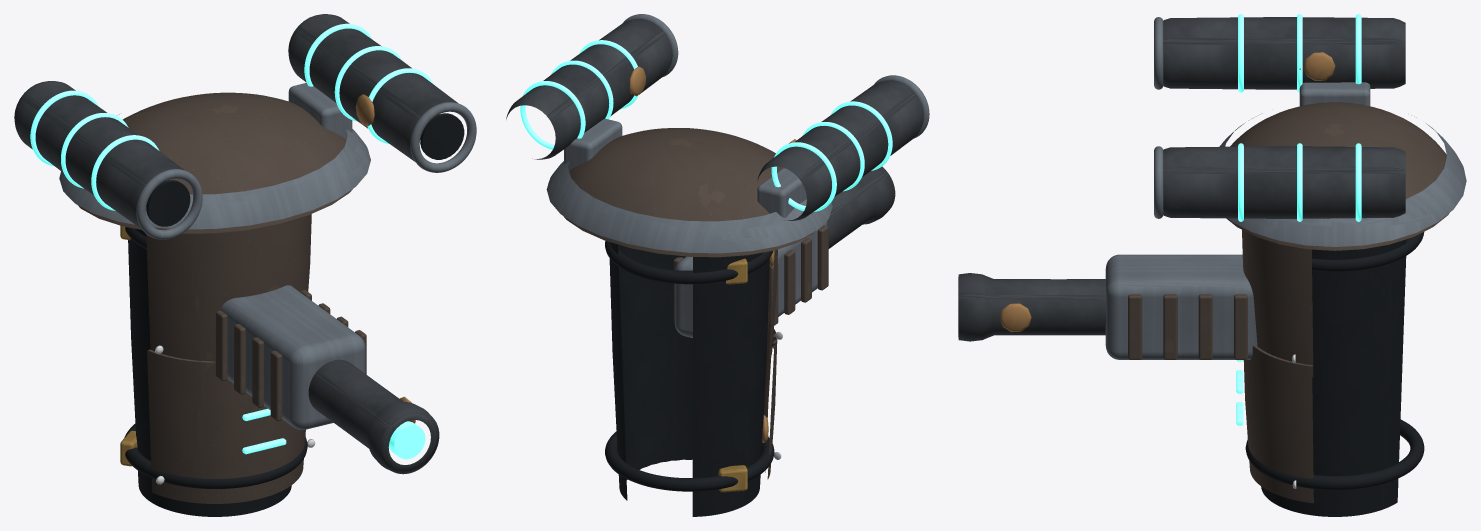
File: shoulder-mount.glb
The picture shows the model from 3 angles, left to right: view 1: azimuth 30°, elevation 25°; view 2: azimuth 150°, elevation 25°; view 3: azimuth 270°, elevation 25°; orthographic projection. The views are drawn at different scales.
Visible parts, largest first — view 1: ceramic / ceramic composite panel, darksteel / oil-blackened fittings, alloy / machined anodized alloy, polymer / stippled polymer, energy / emissive field channel, peened pin; view 2: polymer / stippled polymer, darksteel / oil-blackened fittings, ceramic / ceramic composite panel, alloy / machined anodized alloy, energy / emissive field channel, brass / polished brass furniture; view 3: darksteel / oil-blackened fittings, ceramic / ceramic composite panel, polymer / stippled polymer, alloy / machined anodized alloy, energy / emissive field channel, peened pin.
Part boxes in pixels (box(x1,y1,x2,y2)): ceramic / ceramic composite panel: box(78, 92, 366, 503); darksteel / oil-blackened fittings: box(14, 14, 458, 474); alloy / machined anodized alloy: box(59, 83, 476, 429); polymer / stippled polymer: box(124, 113, 464, 516); energy / emissive field channel: box(30, 23, 433, 459); peened pin: box(355, 94, 415, 423); polymer / stippled polymer: box(605, 241, 774, 516); darksteel / oil-blackened fittings: box(506, 19, 923, 248); ceramic / ceramic composite panel: box(563, 128, 828, 479); alloy / machined anodized alloy: box(546, 14, 929, 337); energy / emissive field channel: box(520, 40, 892, 211); brass / polished brass furniture: box(718, 258, 747, 492); darksteel / oil-blackened fittings: box(958, 17, 1405, 341); ceramic / ceramic composite panel: box(1128, 102, 1449, 503); polymer / stippled polymer: box(1245, 232, 1424, 516); alloy / machined anodized alloy: box(1105, 17, 1466, 359); energy / emissive field channel: box(1236, 14, 1361, 425); peened pin: box(999, 52, 1335, 332).
Size of the model in its own units: 0.327 by 0.3785 by 0.4322.
8 materials, 6 textured.
